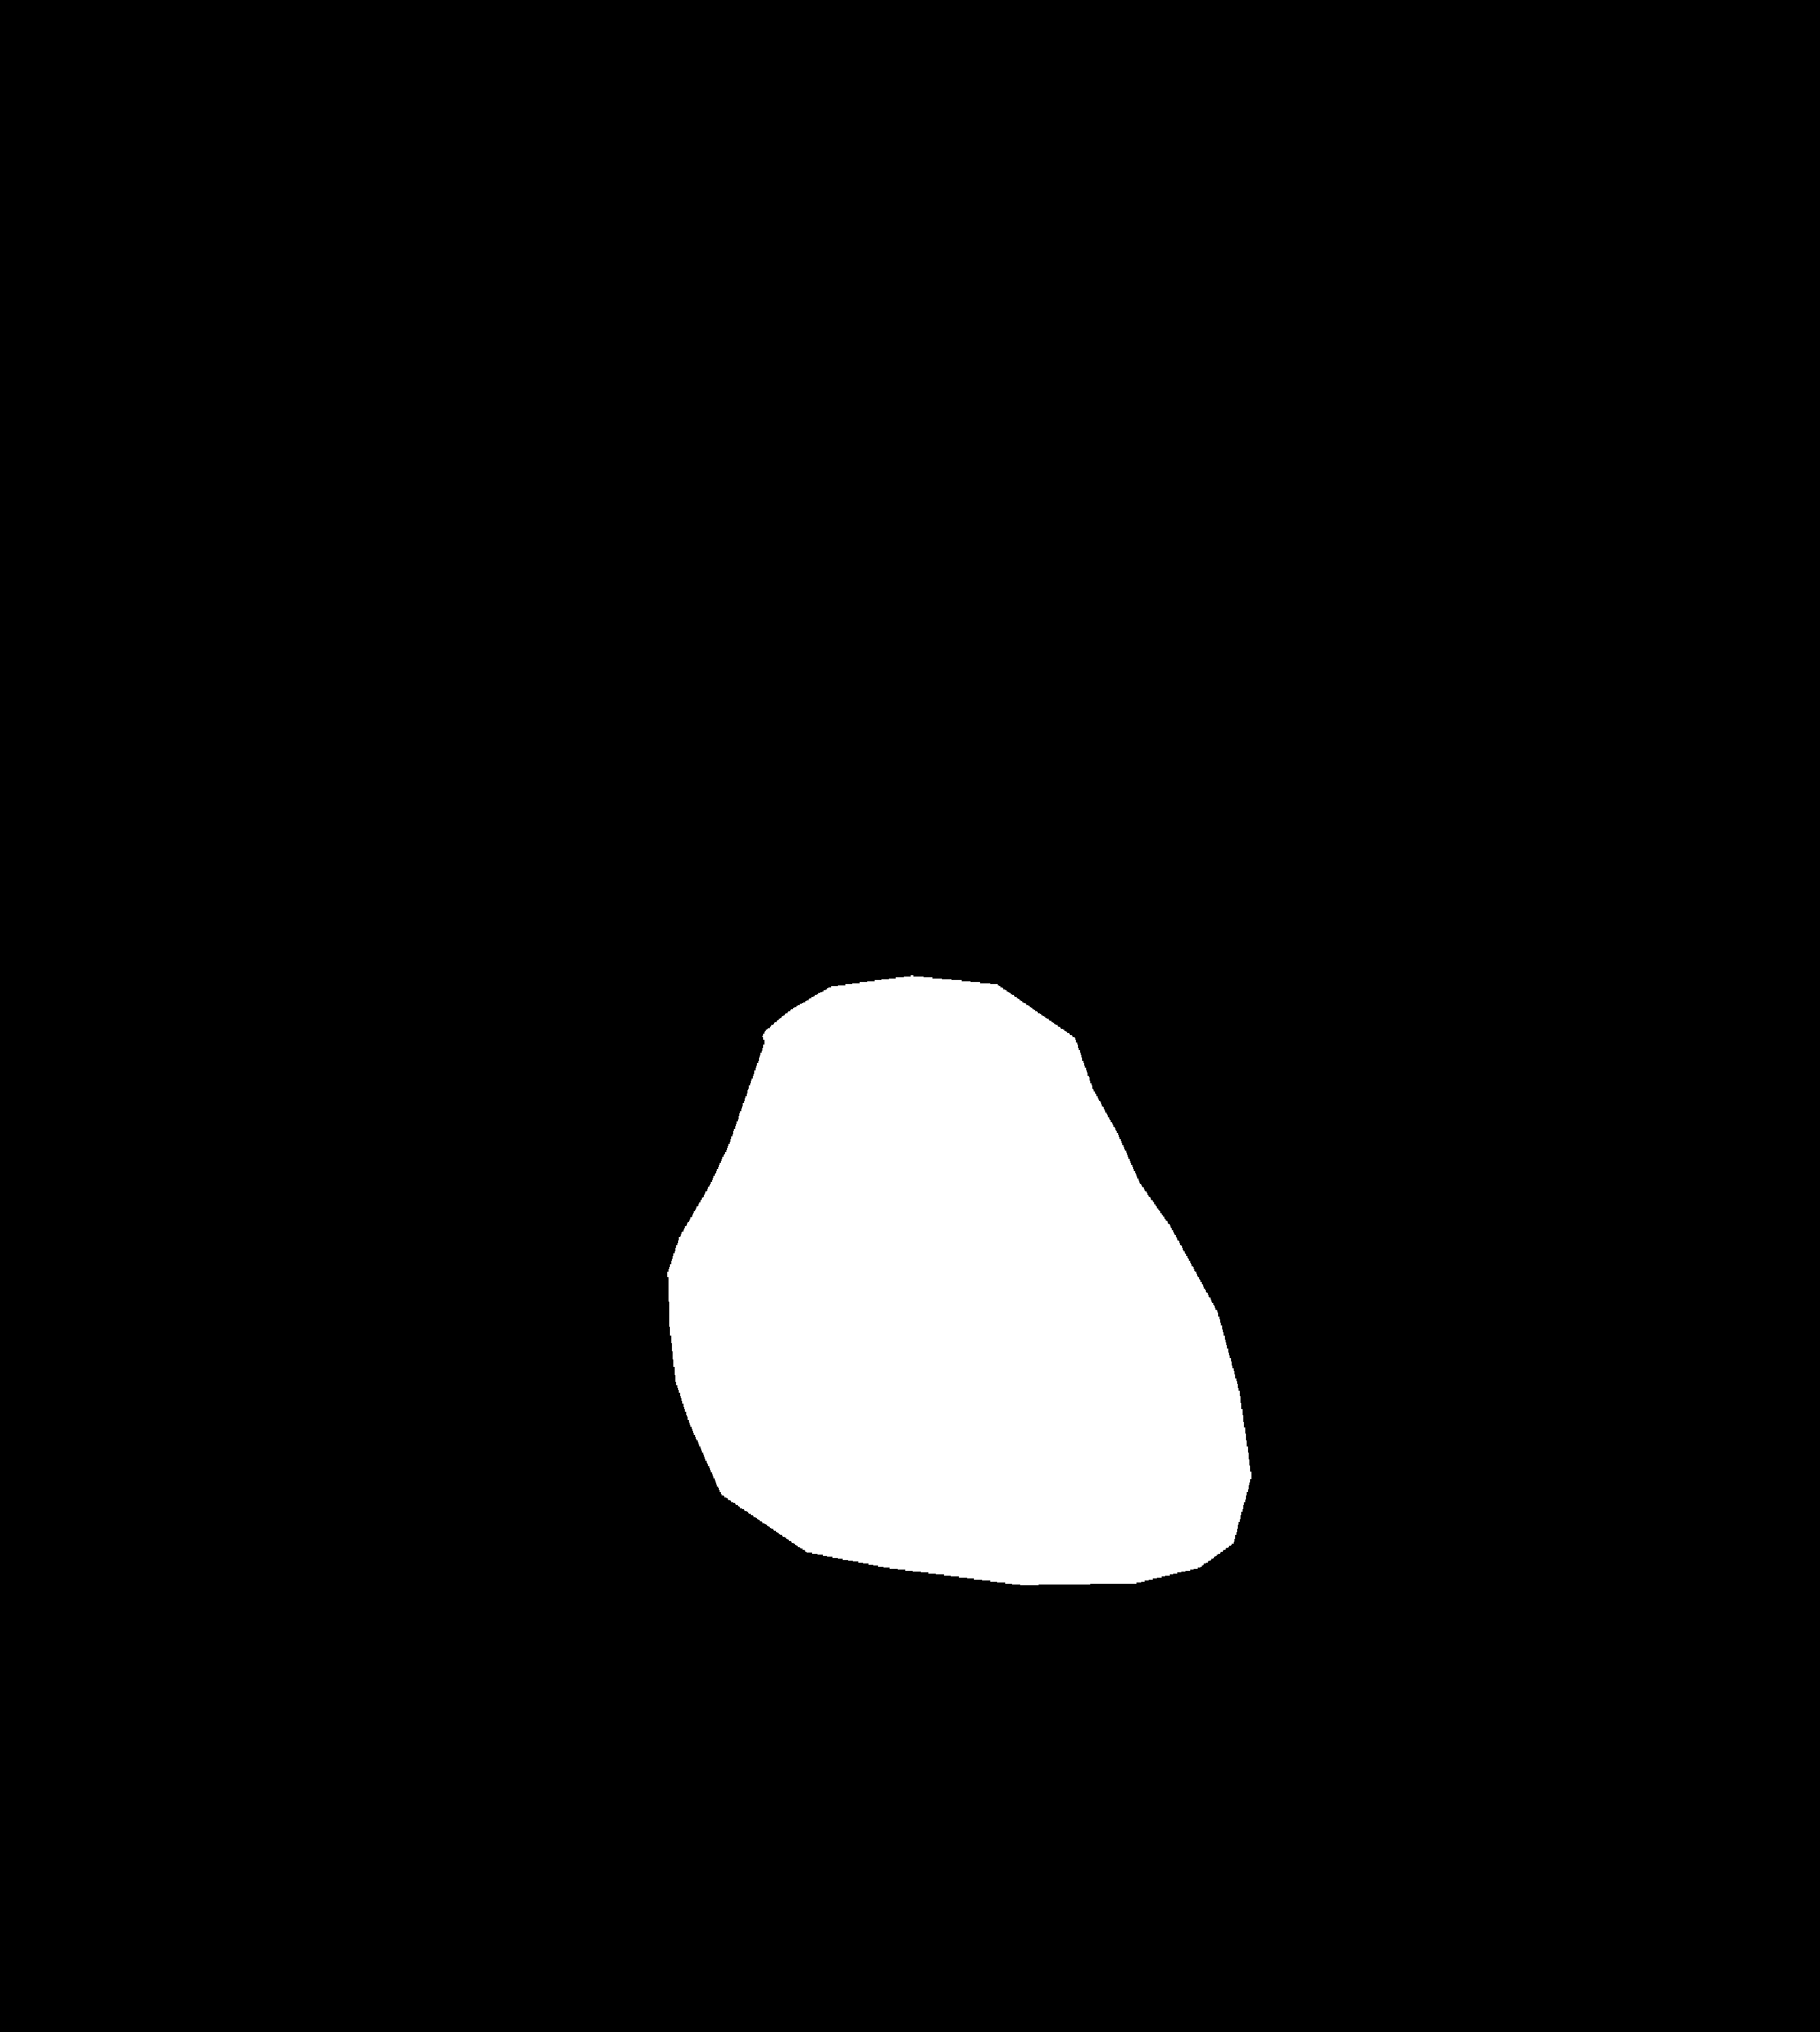heart: (662, 1115, 1246, 1582)
left_lung: (242, 358, 878, 1730)
right_lung: (1019, 365, 1616, 1802)
